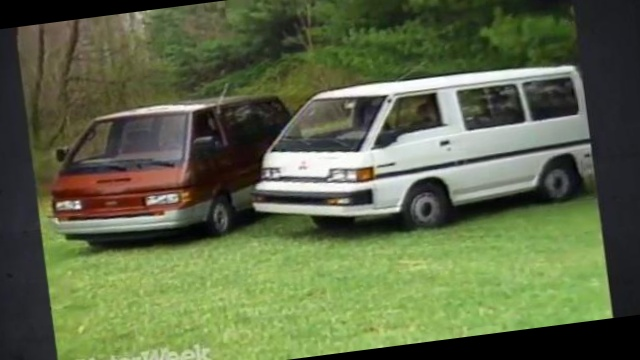van: (246, 57, 602, 243), (39, 88, 314, 252)
